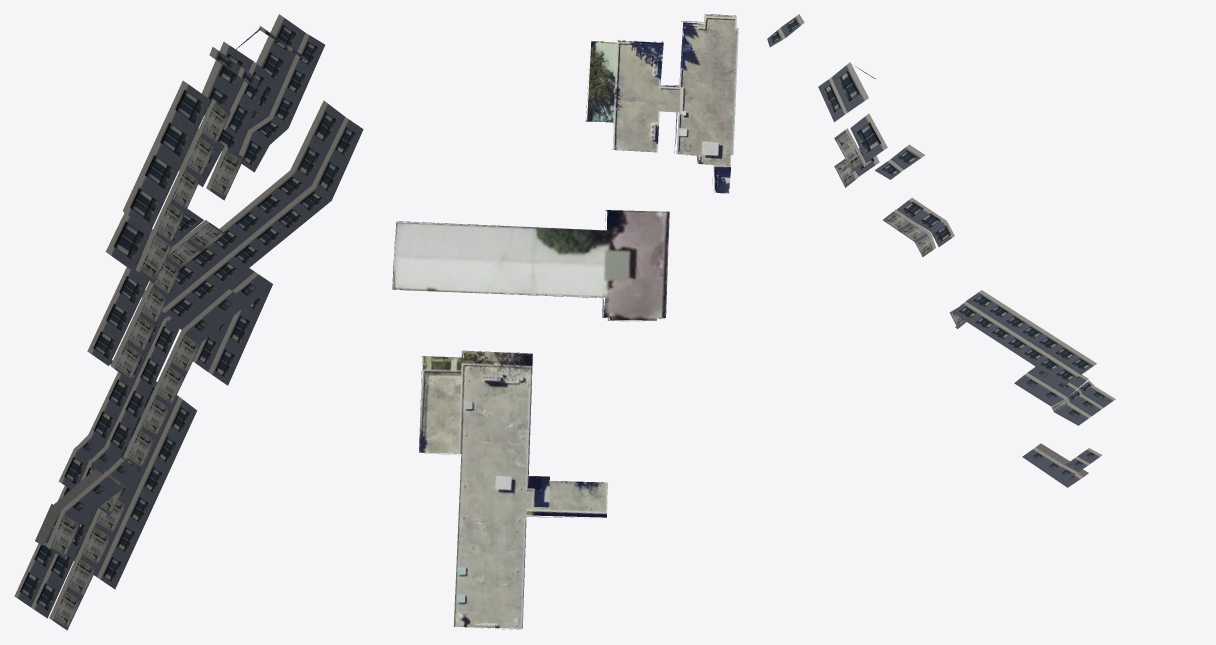
File: tile_LOD4_r15_c10.glb
3 renders of one model, left to right at view 1: azimuth 30°, elevation 25°; view 2: azimuth 150°, elevation 25°; view 3: azimuth 270°, elevation 25°, orthographic. The views are drawn at different scales.
Bounding box in the file's own units: 59.5 × 115 × 81.
Materials: 8 (8 with a texture image).
